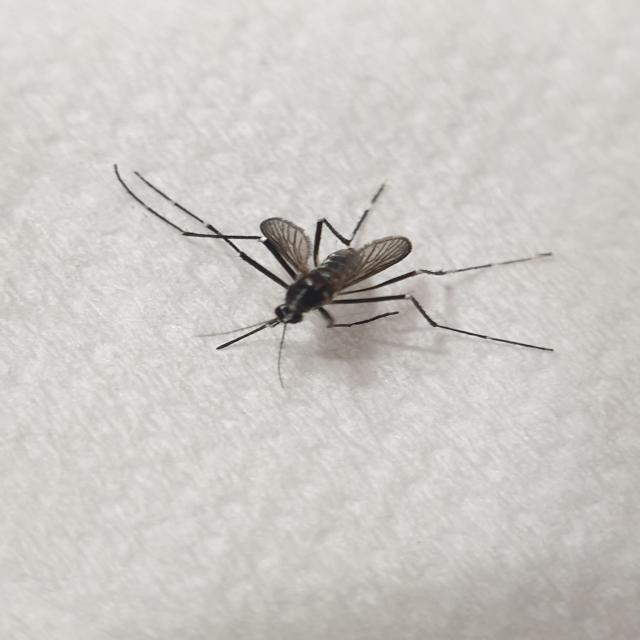albopictus: (104, 148, 550, 404)
